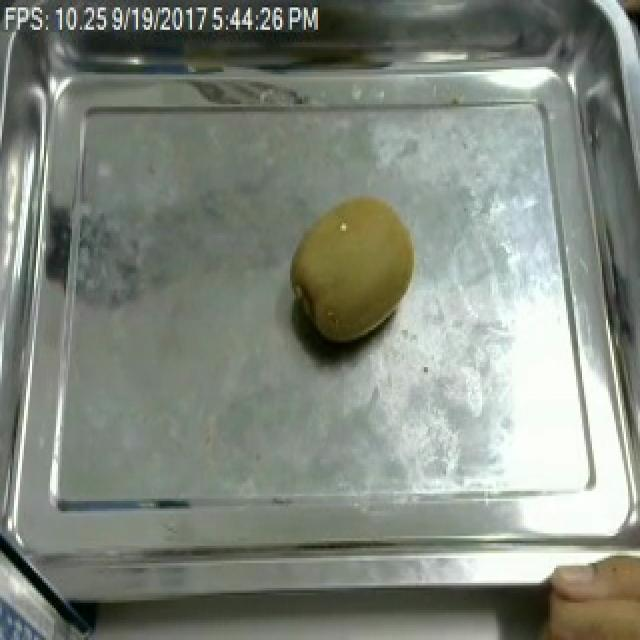Fruit: (284, 183, 426, 354), (514, 541, 640, 640)
